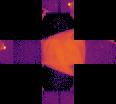earth: (40, 28, 86, 76)
